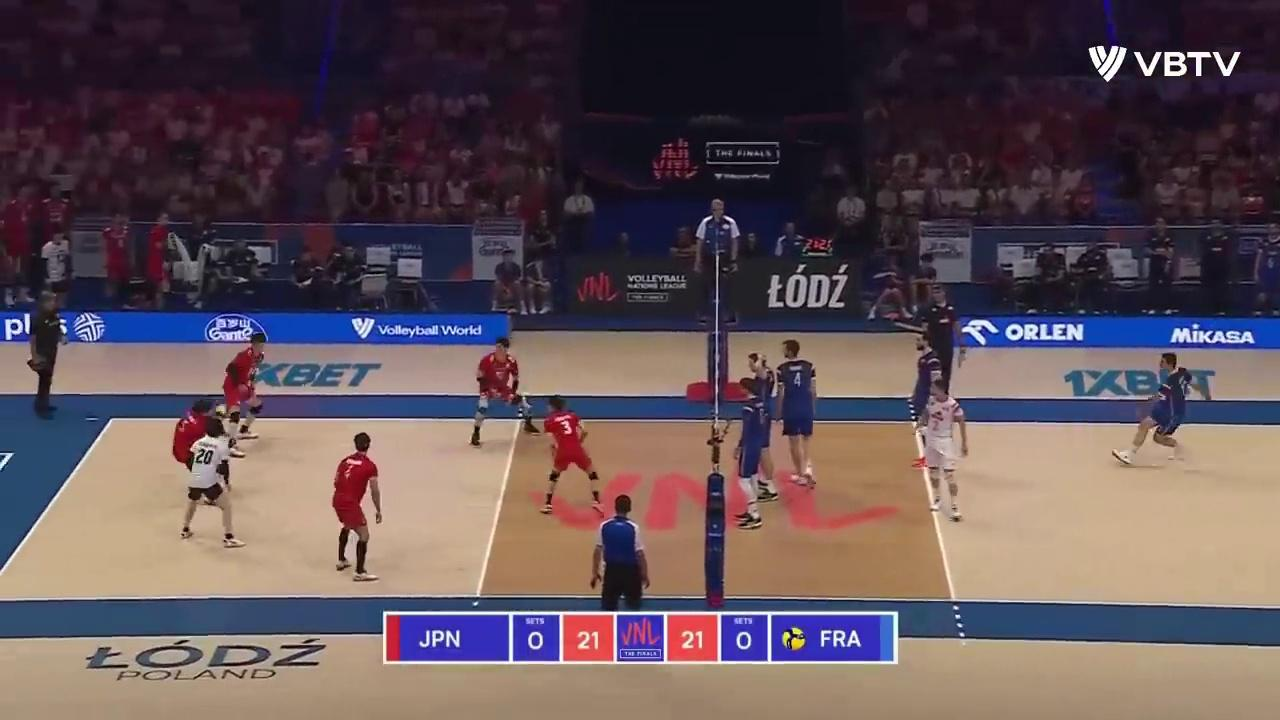ball: (217, 405, 227, 419)
